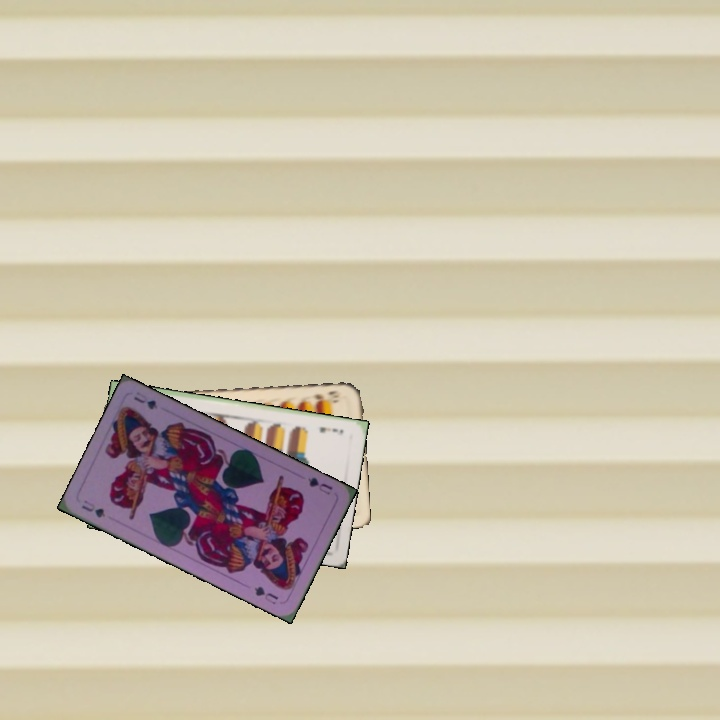E10: (309, 387, 343, 405)
E7: (315, 423, 346, 438)
GU: (304, 473, 335, 497), (78, 496, 108, 520)
